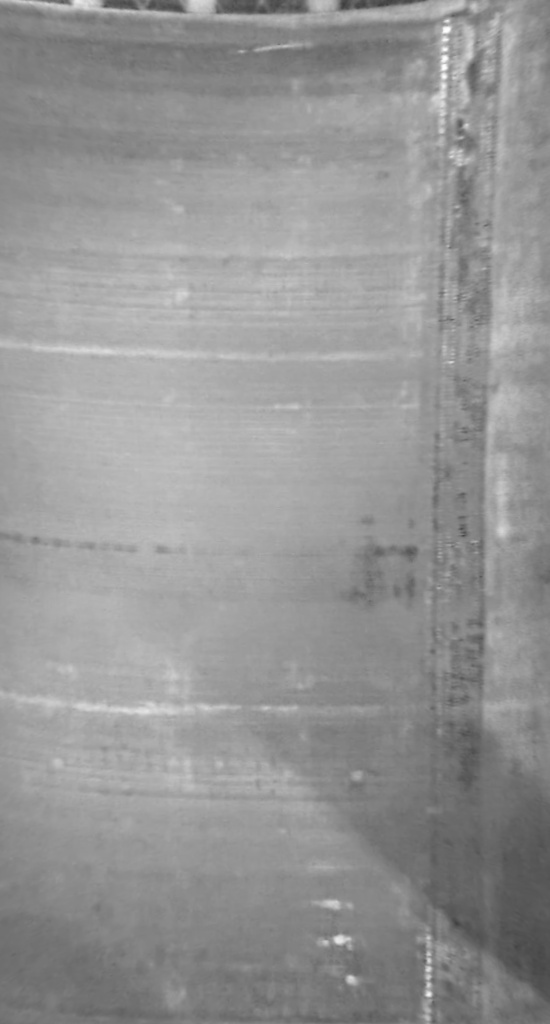splice: (421, 1, 518, 1023)
